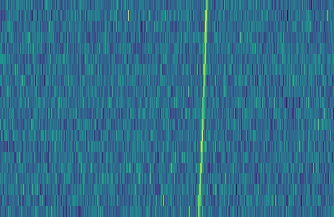signal: (194, 0, 212, 217)
